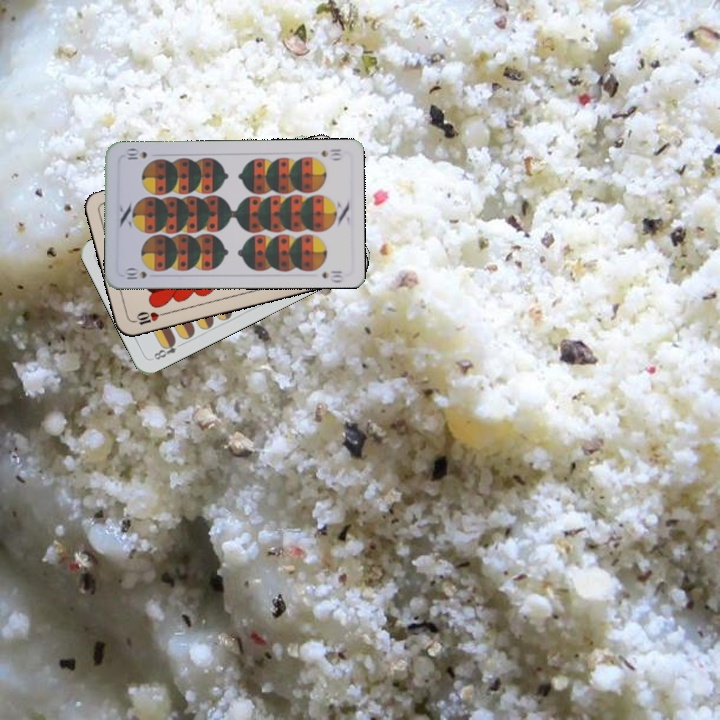E8: (150, 336, 186, 363)
H10: (129, 308, 169, 327)
S10: (121, 265, 149, 282), (317, 145, 345, 162)
